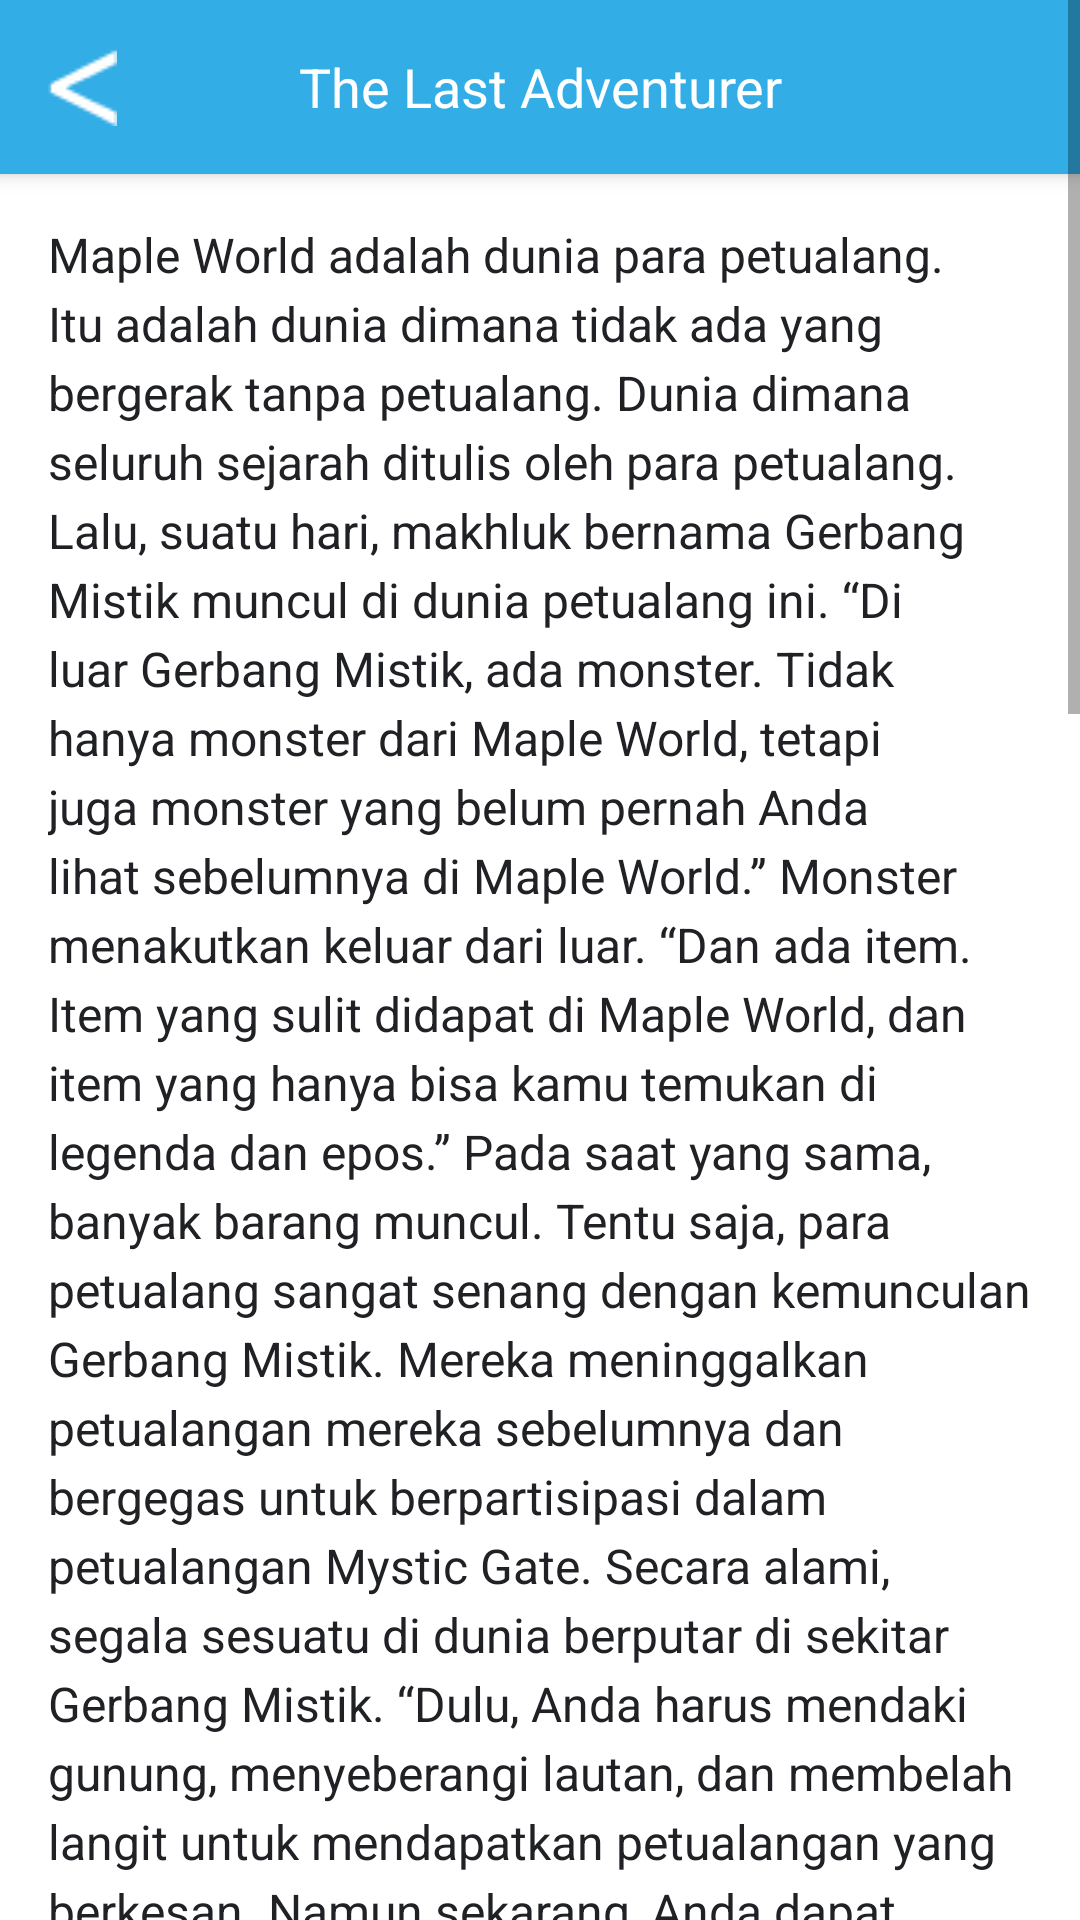

Named icons in this screenshot (1080 x 1920) and their bounding boxes, bbox(x1, y1, x2, y2):
back: bbox(48, 50, 117, 126)
